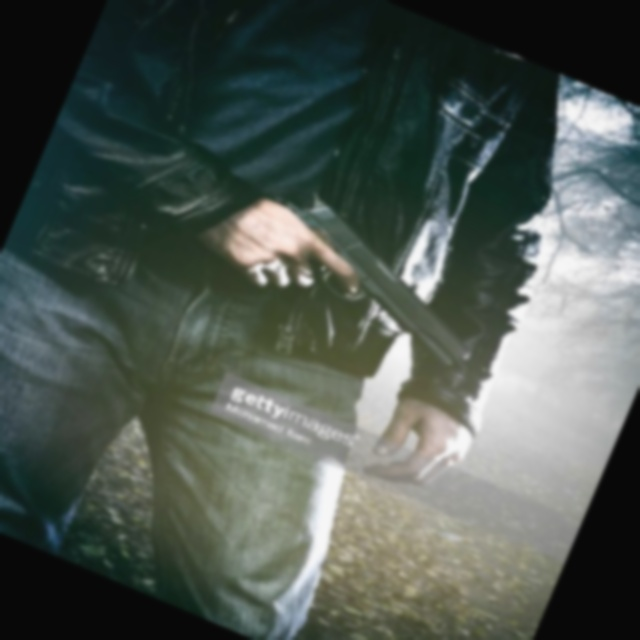gun: (248, 178, 511, 385)
